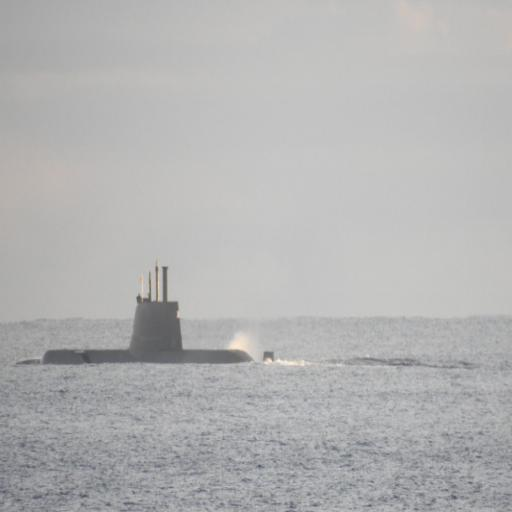submarine: (12, 302, 277, 369)
